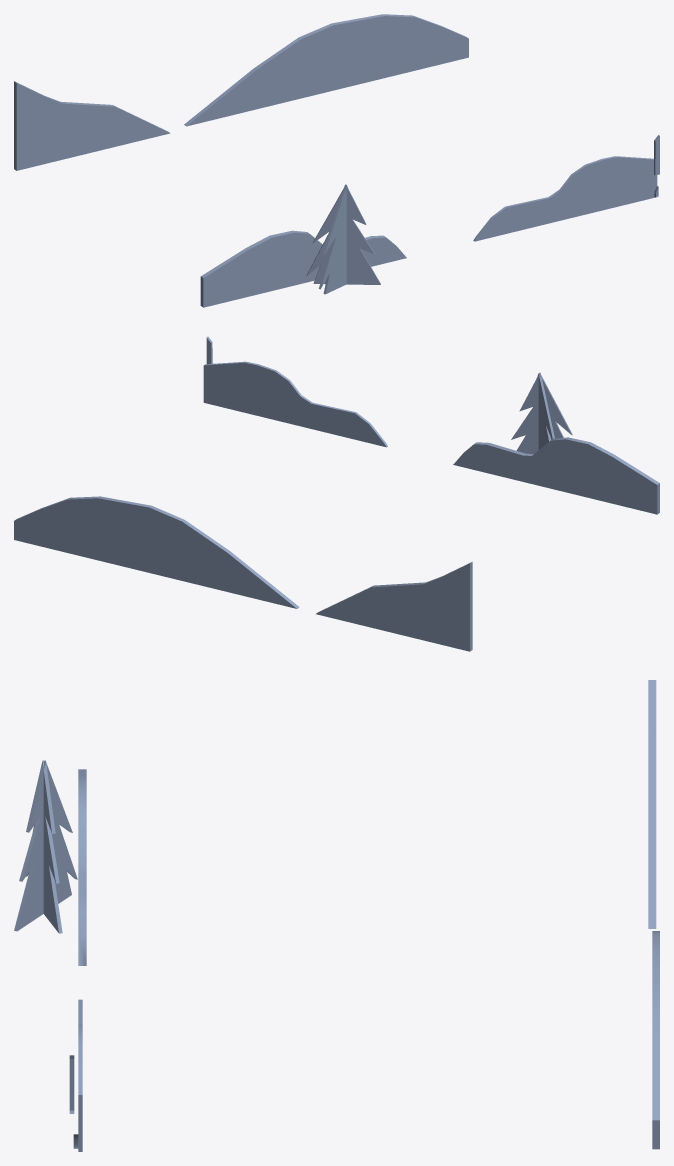
The model's file is frame_0099.glb.
3 views of the same model, one above another, from view 1: azimuth 30°, elevation 25°; view 2: azimuth 150°, elevation 25°; view 3: azimuth 270°, elevation 25° (orthographic). The views are drawn at different scales.
Parts seen in each view (by area): view 1: export_trees_001.002; view 2: export_trees_001.002; view 3: export_trees_001.002.
Part boxes in pixels (box(x1,y1,x2,y2)): export_trees_001.002: box(14, 14, 659, 307); export_trees_001.002: box(14, 336, 659, 651); export_trees_001.002: box(14, 680, 659, 1151).
Bounding box in the file's own units: 0.4327 × 0.0905 × 0.35.
